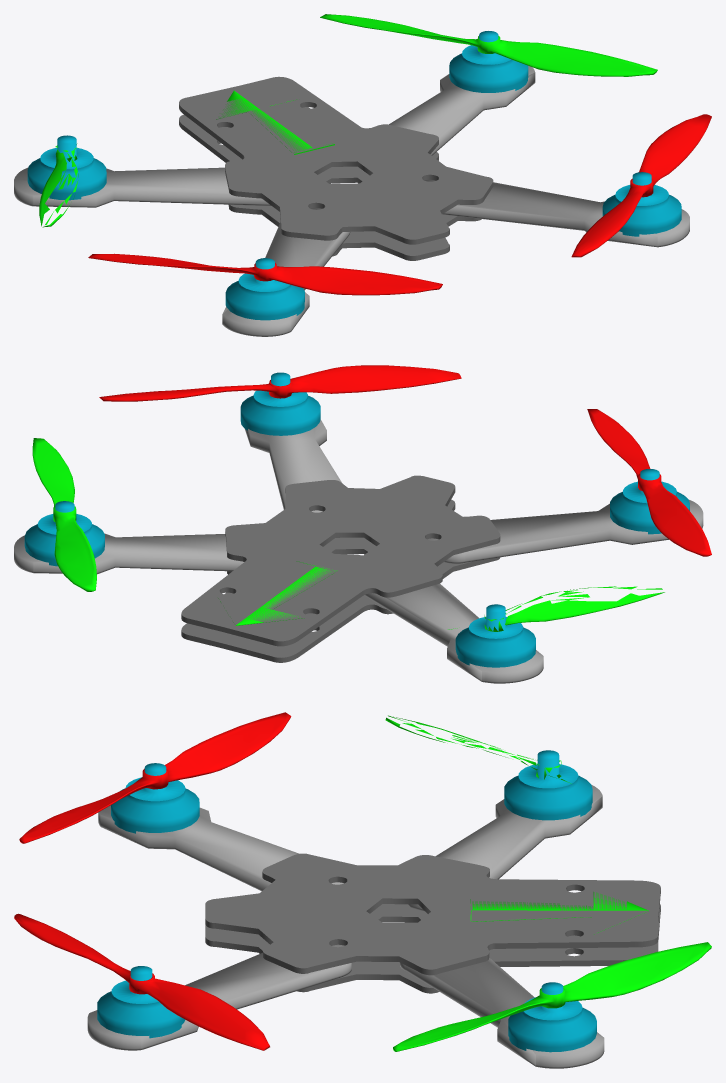
Rendered from quad_x.gltf.
3 renders of one model, top to bottom at view 1: azimuth 30°, elevation 25°; view 2: azimuth 150°, elevation 25°; view 3: azimuth 270°, elevation 25°, orthographic. The views are drawn at different scales.
Visible parts, largest first — view 1: body_mesh_5, body_mesh_4, body_mesh_9, prop_rear_left, prop_front_right, body_mesh_7, prop_rear_right, body_mesh_1, body_mesh_6, body_mesh_3, body_mesh_0, heading_arrow (+1 smaller); view 2: body_mesh_5, body_mesh_4, body_mesh_9, body_mesh_6, body_mesh_1, prop_rear_right, body_mesh_7, prop_rear_left, prop_front_right, prop_front_left, body_mesh_0, body_mesh_3 (+1 smaller); view 3: body_mesh_5, body_mesh_4, body_mesh_9, body_mesh_7, prop_front_right, body_mesh_1, prop_rear_left, prop_rear_right, body_mesh_6, body_mesh_0, body_mesh_3, heading_arrow (+1 smaller).
Boxes of the visible parts, <box> form: body_mesh_5: <box>179,76,493,244</box>; body_mesh_4: <box>14,167,689,247</box>; body_mesh_9: <box>27,135,681,236</box>; prop_rear_left: <box>88,253,442,295</box>; prop_front_right: <box>320,14,657,76</box>; body_mesh_7: <box>179,107,481,260</box>; prop_rear_right: <box>571,114,711,257</box>; body_mesh_1: <box>361,65,535,172</box>; body_mesh_6: <box>222,208,350,336</box>; body_mesh_3: <box>225,258,304,320</box>; body_mesh_0: <box>449,31,528,92</box>; heading_arrow: <box>216,90,334,154</box>; body_mesh_5: <box>181,475,500,646</box>; body_mesh_4: <box>245,419,543,683</box>; body_mesh_9: <box>240,372,535,667</box>; body_mesh_6: <box>427,500,703,563</box>; body_mesh_1: <box>14,533,243,574</box>; prop_rear_right: <box>99,365,461,401</box>; body_mesh_7: <box>181,499,500,662</box>; prop_rear_left: <box>587,409,711,556</box>; prop_front_right: <box>32,438,96,591</box>; prop_front_left: <box>448,586,664,631</box>; body_mesh_0: <box>24,501,104,566</box>; body_mesh_3: <box>610,469,689,534</box>; body_mesh_5: <box>205,853,660,975</box>; body_mesh_4: <box>87,785,602,1050</box>; body_mesh_9: <box>97,750,592,1038</box>; body_mesh_7: <box>205,904,660,993</box>; prop_front_right: <box>393,942,711,1051</box>; body_mesh_1: <box>400,958,604,1068</box>; prop_rear_left: <box>19,712,291,843</box>; prop_rear_right: <box>14,913,269,1050</box>; body_mesh_6: <box>98,805,343,891</box>; body_mesh_0: <box>508,982,596,1052</box>; body_mesh_3: <box>111,763,199,833</box>; heading_arrow: <box>470,892,648,934</box>.
Size of the model in its own units: 8.22 by 0.7278 by 7.15.
